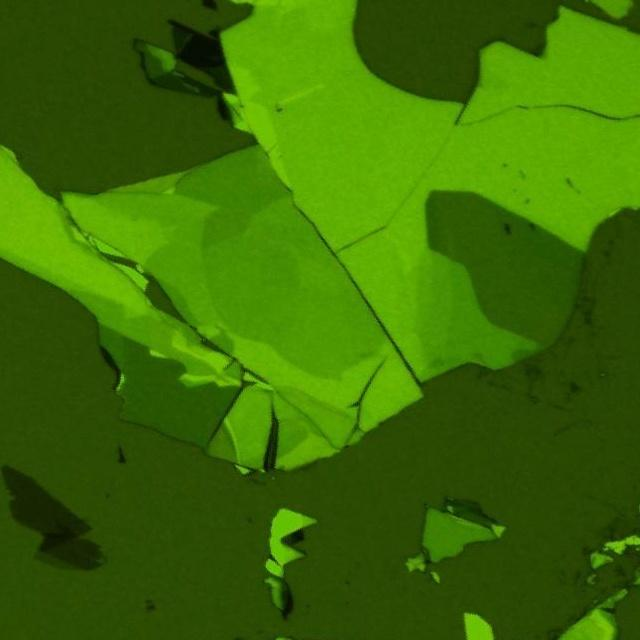monolayer-eWW4: (33, 550, 80, 570)
